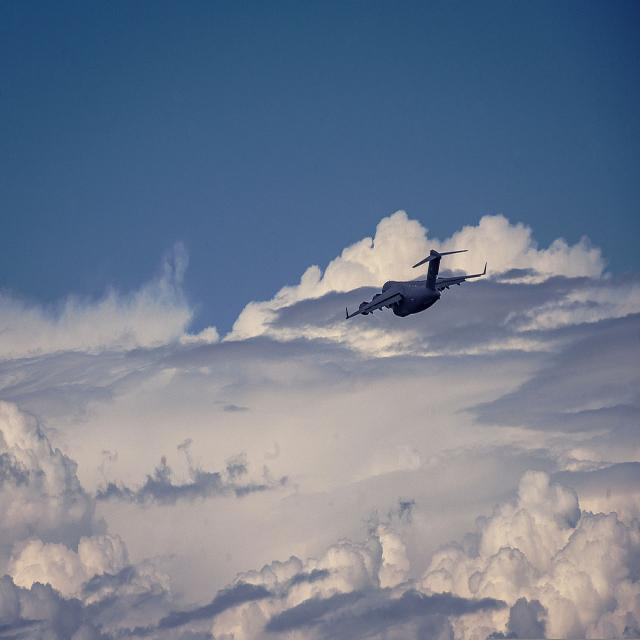MIL_Plane: (345, 249, 487, 320)
